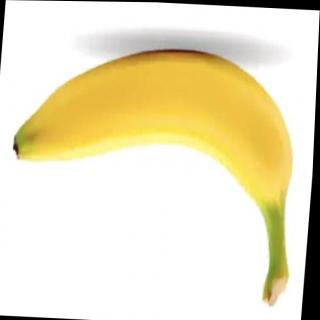banana: (9, 41, 303, 198)
